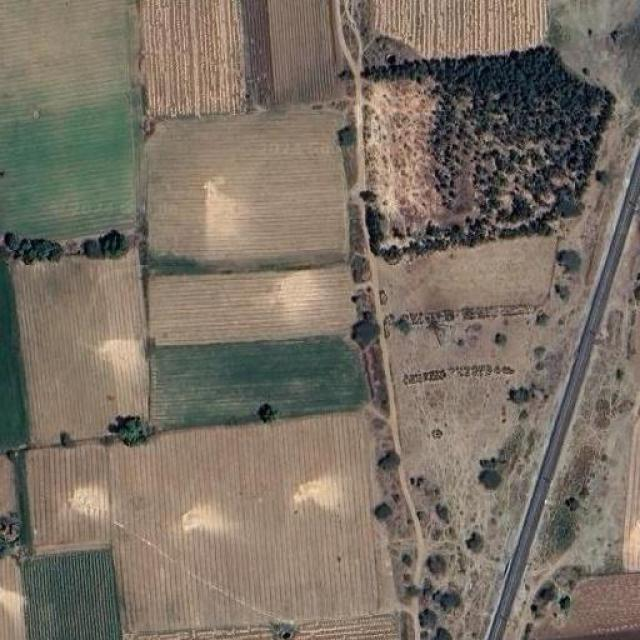land-Sx1C: (111, 413, 381, 639), (0, 0, 135, 238), (146, 108, 345, 269), (11, 248, 148, 444), (151, 336, 368, 431), (149, 264, 354, 345), (378, 235, 556, 312), (140, 0, 245, 117), (371, 1, 546, 58), (26, 445, 110, 552), (22, 549, 120, 640), (268, 0, 342, 104), (130, 612, 402, 640), (550, 573, 640, 638), (1, 258, 29, 451), (241, 0, 274, 107), (0, 559, 25, 639), (0, 455, 18, 514)
